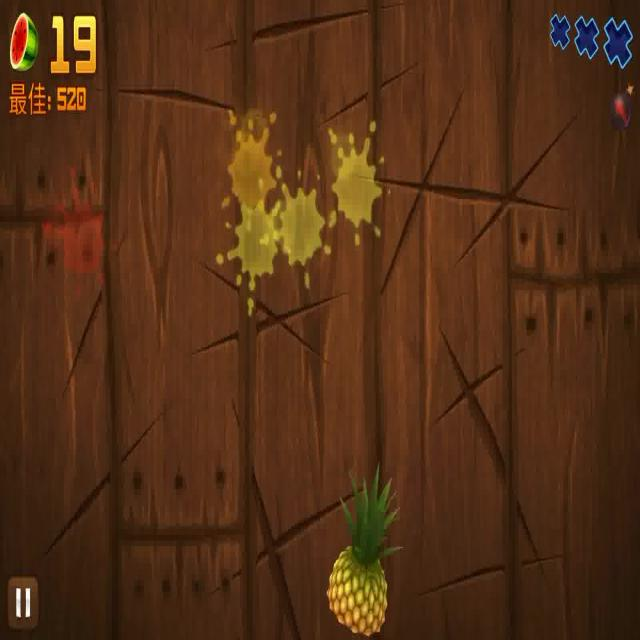fruit: (325, 479, 398, 635)
